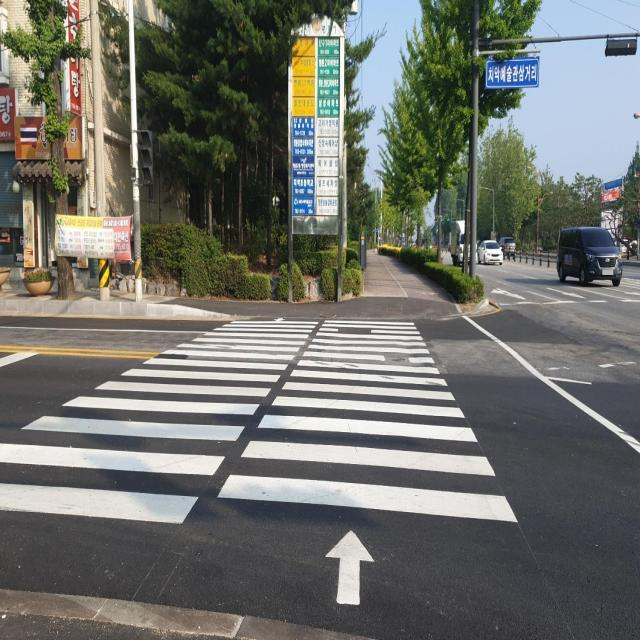횡단보도: (0, 316, 519, 610)
